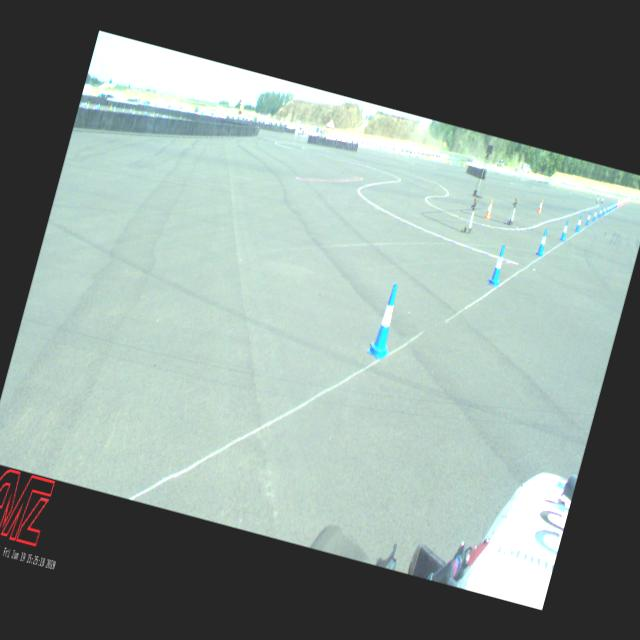blue_cone: (365, 280, 406, 360), (487, 243, 508, 286), (536, 228, 550, 256), (559, 219, 569, 240), (574, 214, 582, 232), (592, 208, 598, 220), (585, 212, 591, 224), (598, 207, 602, 218), (602, 206, 606, 216)
orange_cone: (484, 198, 494, 218), (536, 198, 544, 212)
